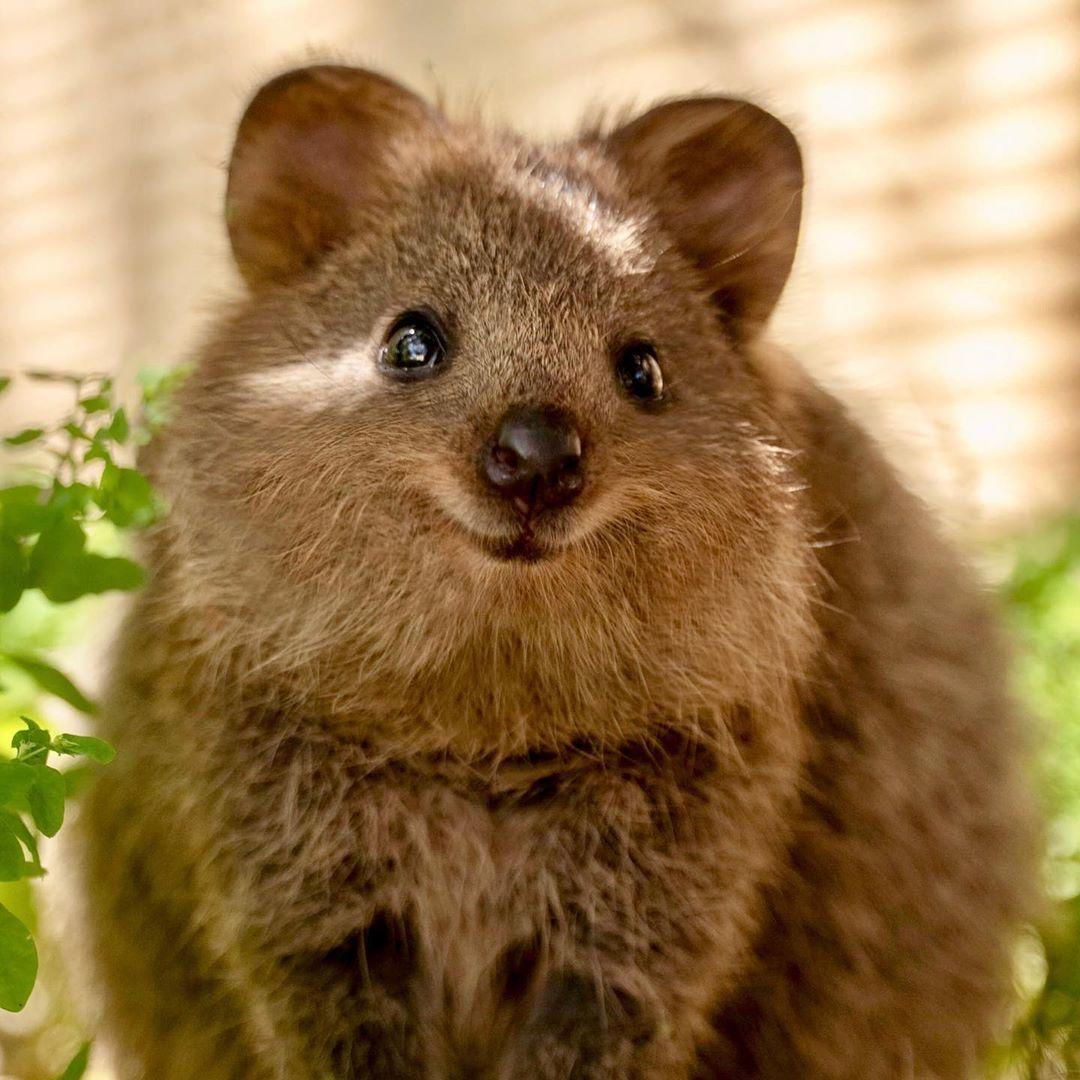quokka: (56, 48, 1039, 1080)
